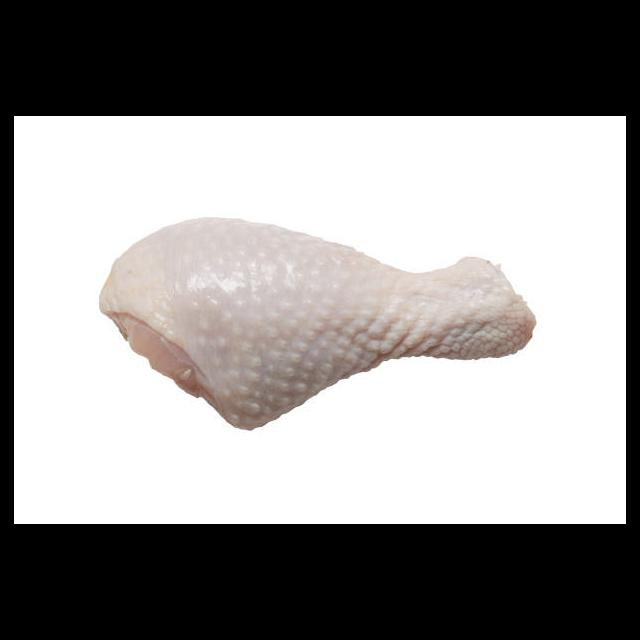chicken: (98, 217, 537, 431)
